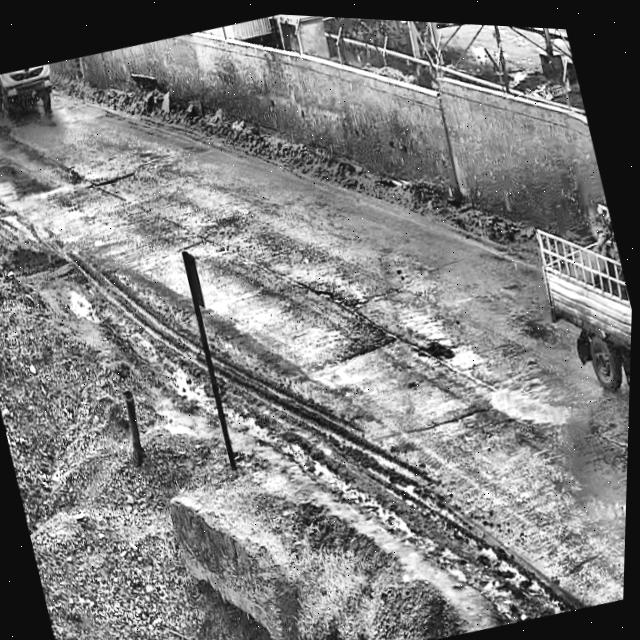dump_truck: (0, 59, 68, 135)
light_vehicle: (509, 175, 636, 485)
